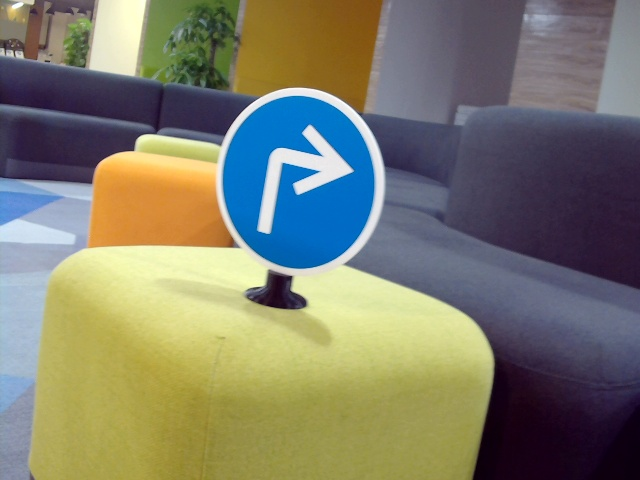turn_right: (254, 125, 356, 236)
